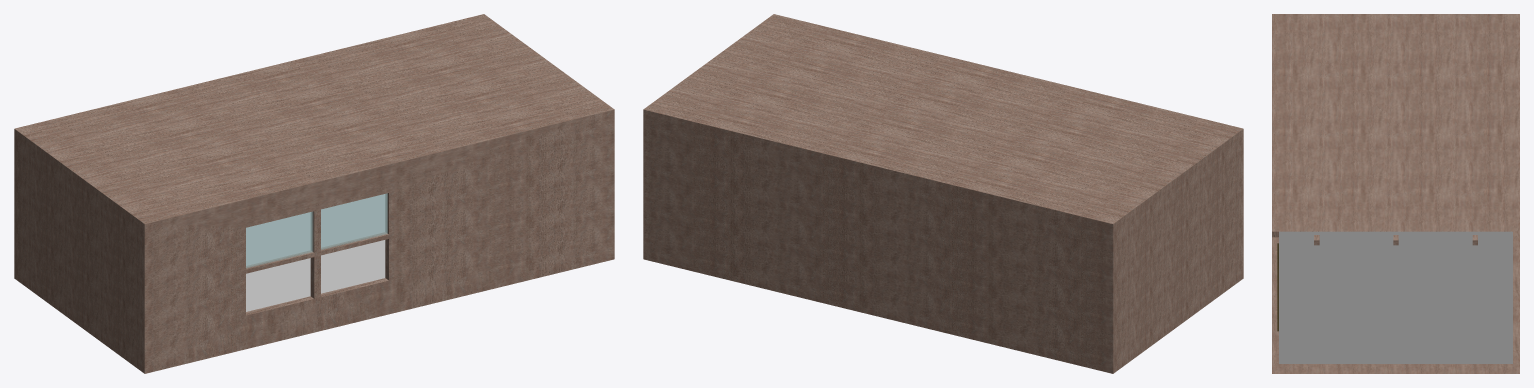
The picture shows the model from 3 angles, left to right: view 1: azimuth 30°, elevation 25°; view 2: azimuth 150°, elevation 25°; view 3: azimuth 270°, elevation 25°; orthographic projection. The views are drawn at different scales.
Parts seen in each view (by area): view 1: 部屋; view 2: 部屋; view 3: 部屋.
Part boxes in pixels (bbox=[...]): 部屋: bbox=[14, 14, 614, 373]; 部屋: bbox=[643, 14, 1243, 373]; 部屋: bbox=[1272, 14, 1519, 373].
Size of the model in its own units: 19126 by 5825 by 9205.
